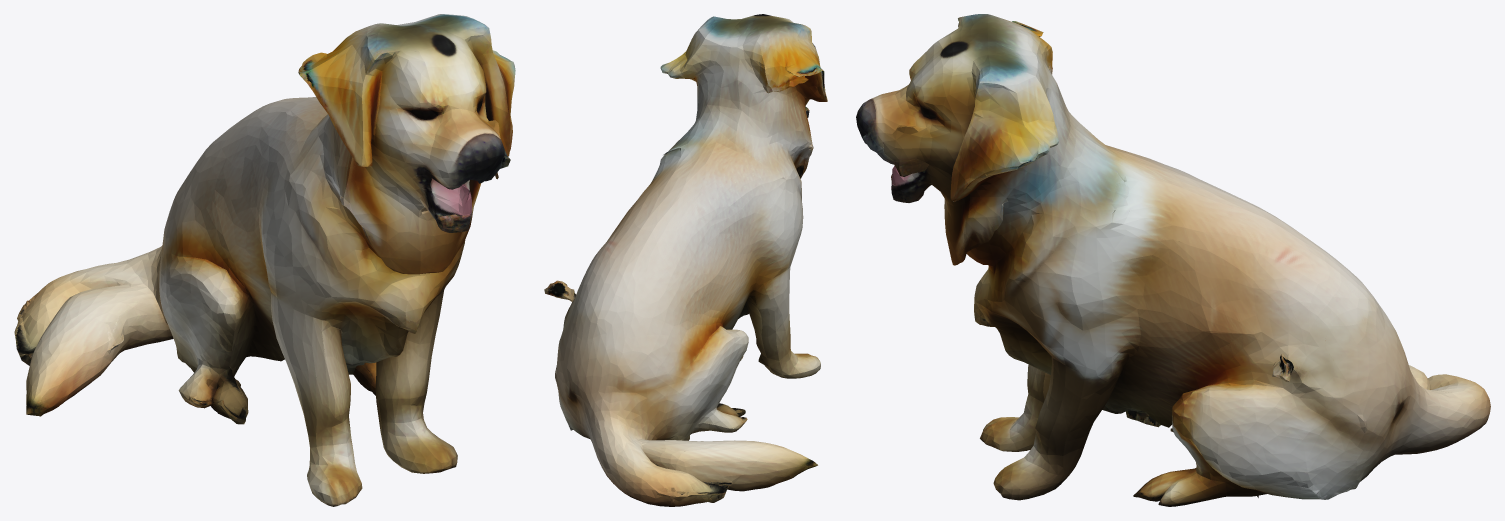
File: Dog_Asset_V1.1.glb
3 renders of one model, left to right at view 1: azimuth 30°, elevation 25°; view 2: azimuth 150°, elevation 25°; view 3: azimuth 270°, elevation 25°, orthographic. The views are drawn at different scales.
Parts seen in each view (by area): view 1: world; view 2: world; view 3: world.
Part boxes in pixels (left/top/right/bottom): world: left=14, top=14, right=515, bottom=506; world: left=544, top=14, right=827, bottom=506; world: left=856, top=14, right=1490, bottom=506.
Size of the model in its own units: 0.6506 by 0.7669 by 0.9948.
Materials: 1 (1 with a texture image).
